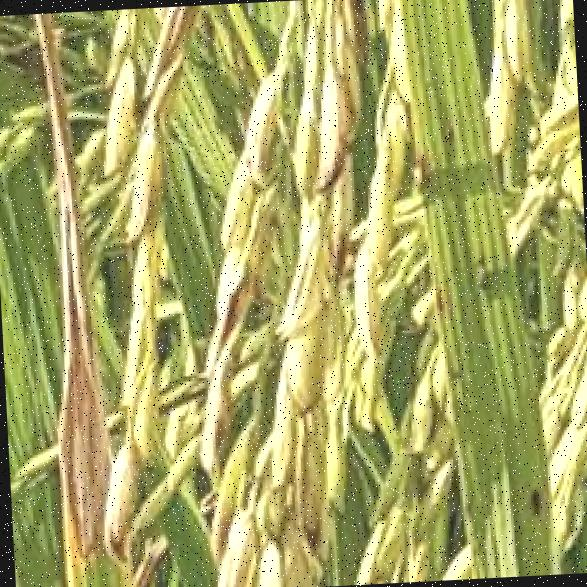Bacteria_Leaf_Blight: (24, 13, 124, 558)
